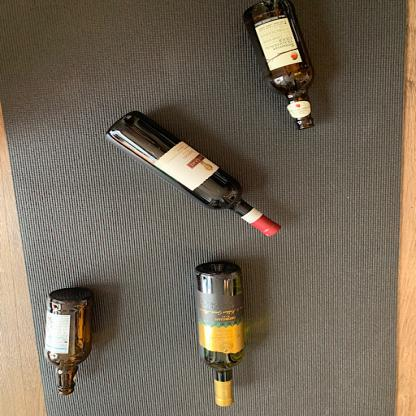trash: (102, 105, 286, 240), (237, 0, 322, 135), (192, 260, 250, 407), (40, 285, 96, 400)
